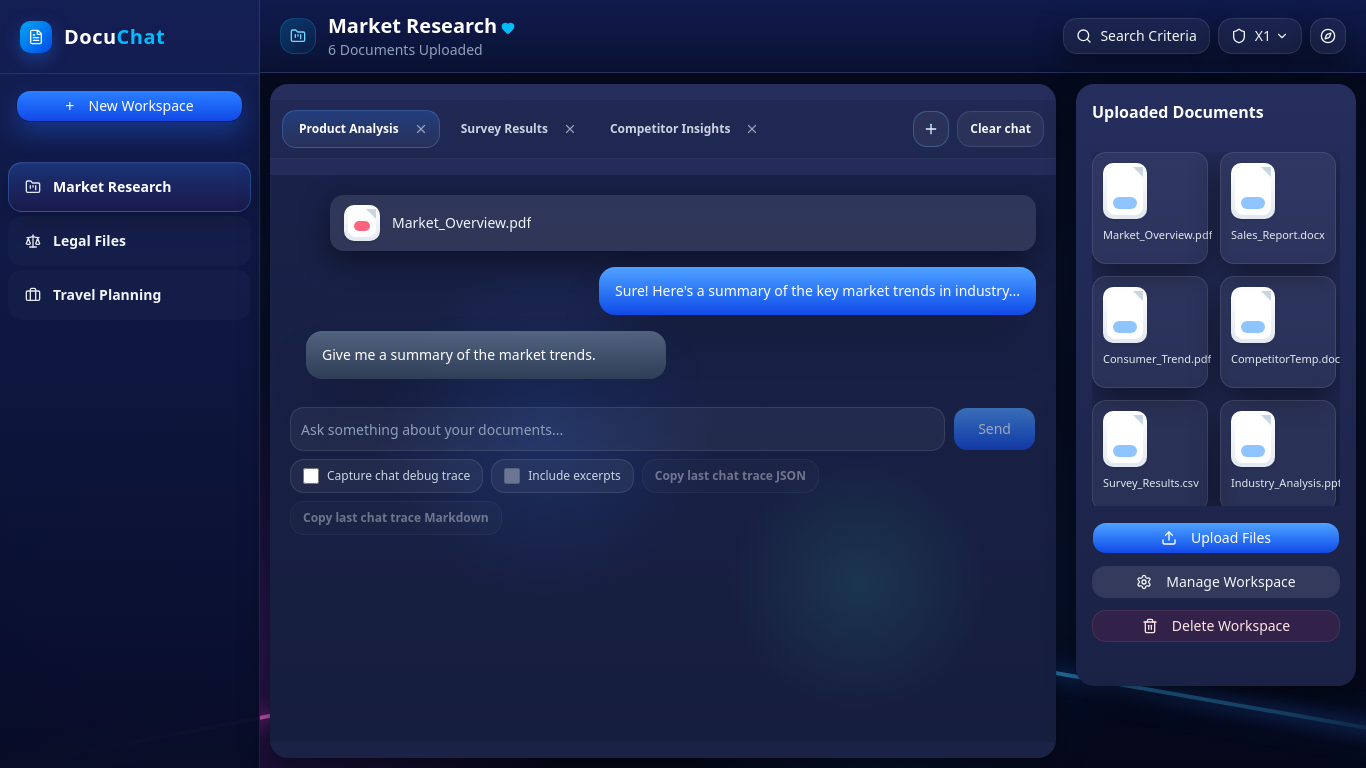
Test: App › renders fixed file cards with ellipsis, tooltip details, and a scrollable list
This screenshot has width=1366, height=768.
Expected: the text with class "truncate" below "Uploaded Documents" is shown, 1103,227 -> 1212,243
Hover over the button with aria-label "Open details for Market_Overview.pdf".
mouse_move(1150, 208)  # box 1092,152 -> 1208,264
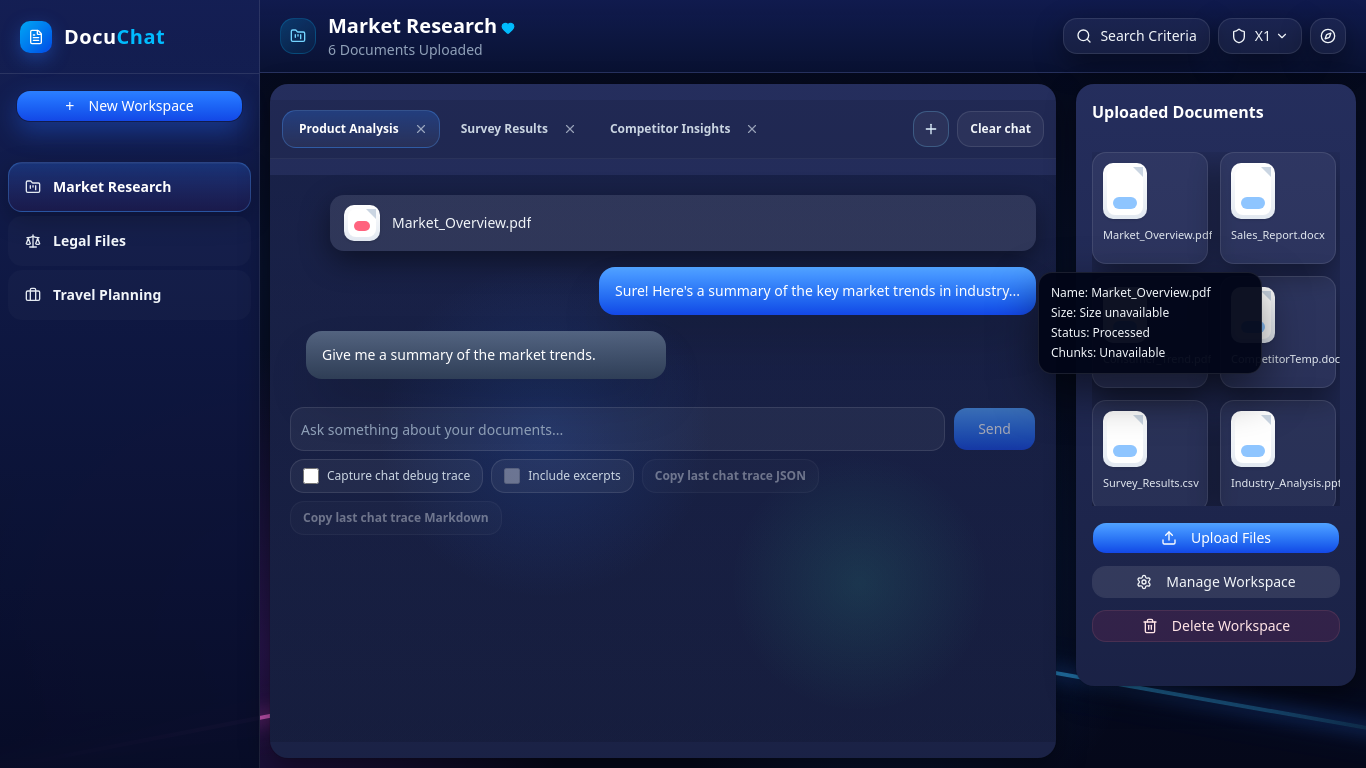
Expected: the text "Name: Market_Overview.pdf" is shown, 1051,284 -> 1211,301
Expected: the text "Size: Size unavailable" is shown, 1051,304 -> 1169,321
Expected: the text "Status: Processed" is shown, 1051,324 -> 1150,341
